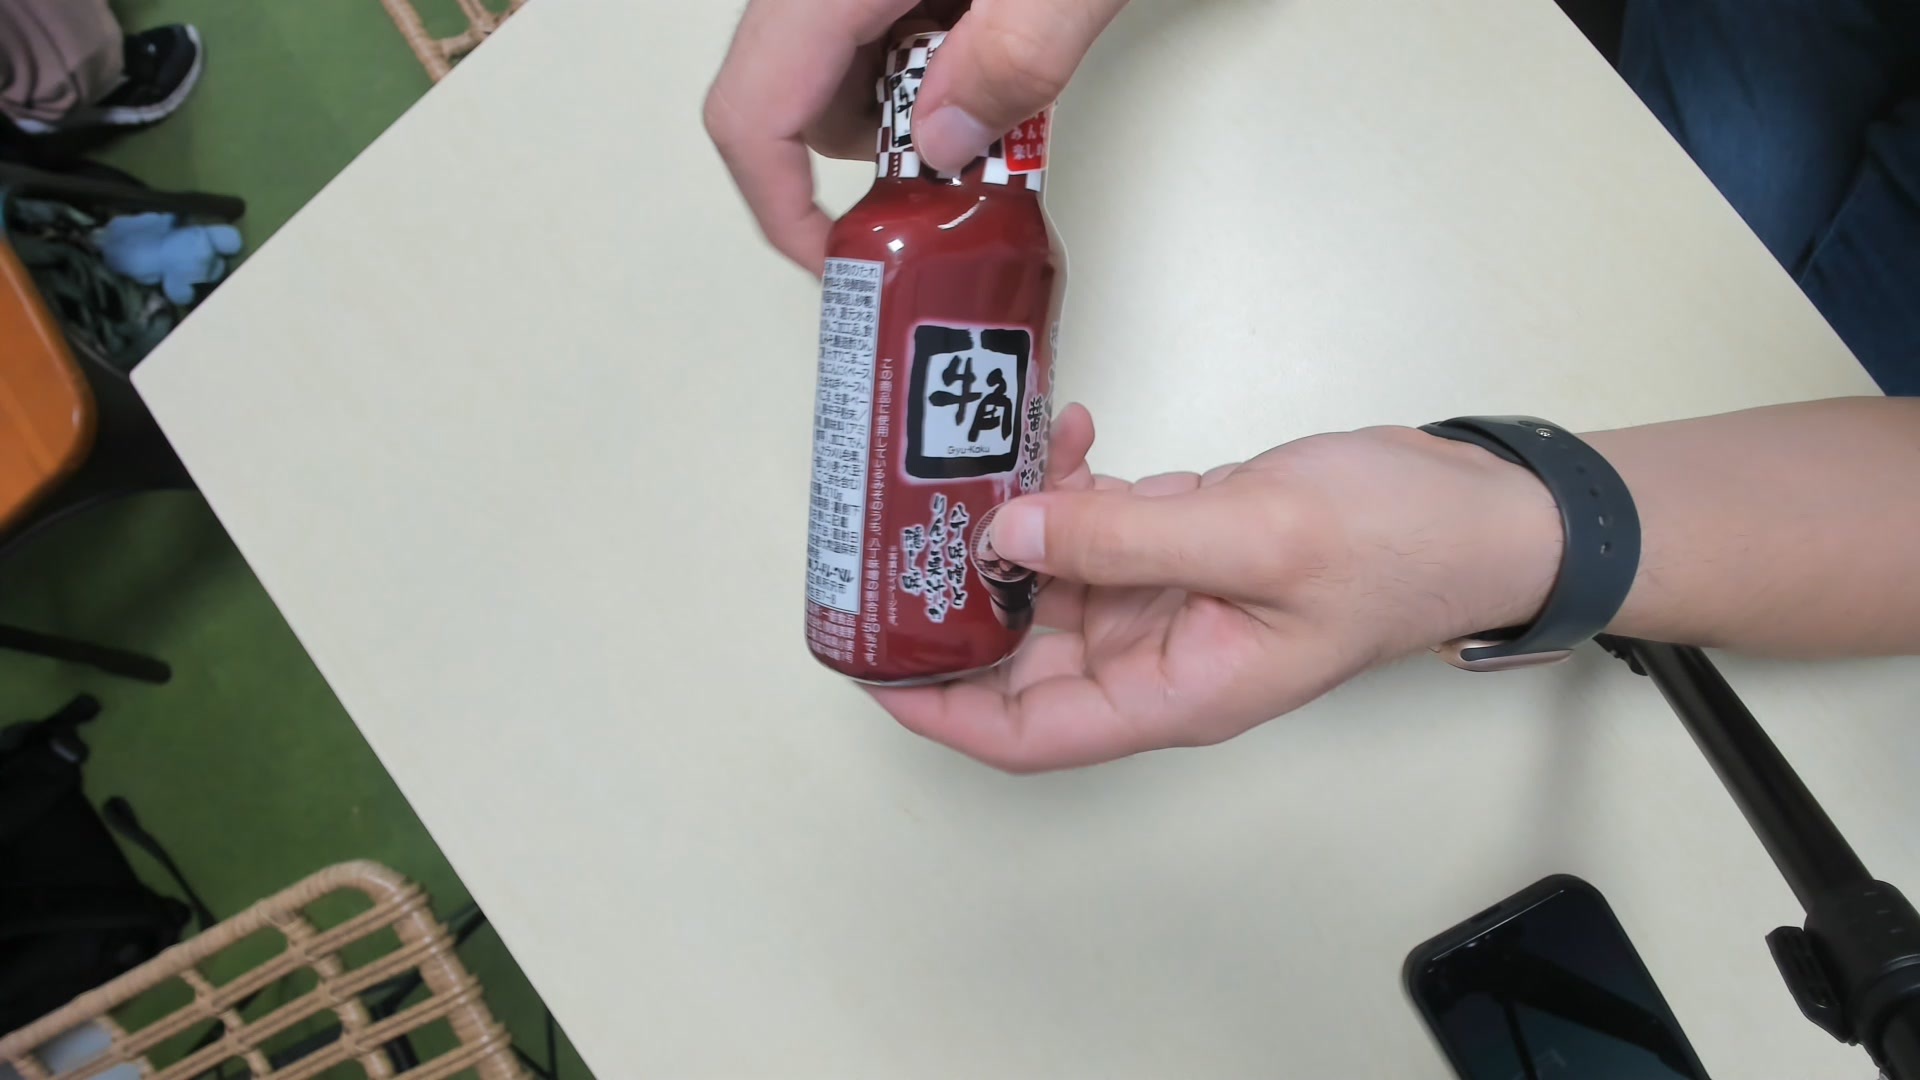OtherSauceDressing_200-299g_NonHalal_NonHealthy: (793, 30, 1069, 680)
